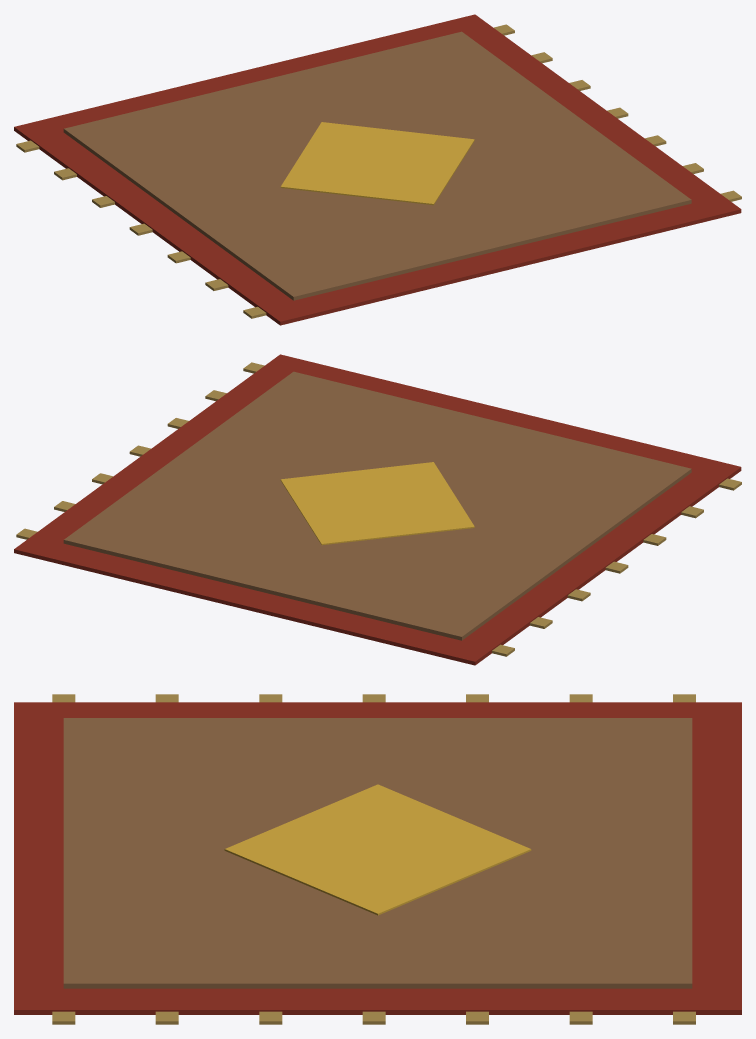
File: rug.glb
3 renders of one model, top to bottom at view 1: azimuth 30°, elevation 25°; view 2: azimuth 150°, elevation 25°; view 3: azimuth 270°, elevation 25°, orthographic. The views are drawn at different scales.
Parts seen in each view (by area): view 1: Prop_hearth_rug; view 2: Prop_hearth_rug; view 3: Prop_hearth_rug.
Boxes of the visible parts, x1,y1,x2,y2 form: Prop_hearth_rug: (14,14,741,325); Prop_hearth_rug: (14,354,741,665); Prop_hearth_rug: (14,694,741,1024).
Bounding box in the file's own units: 2.02 × 0.035 × 1.9.
